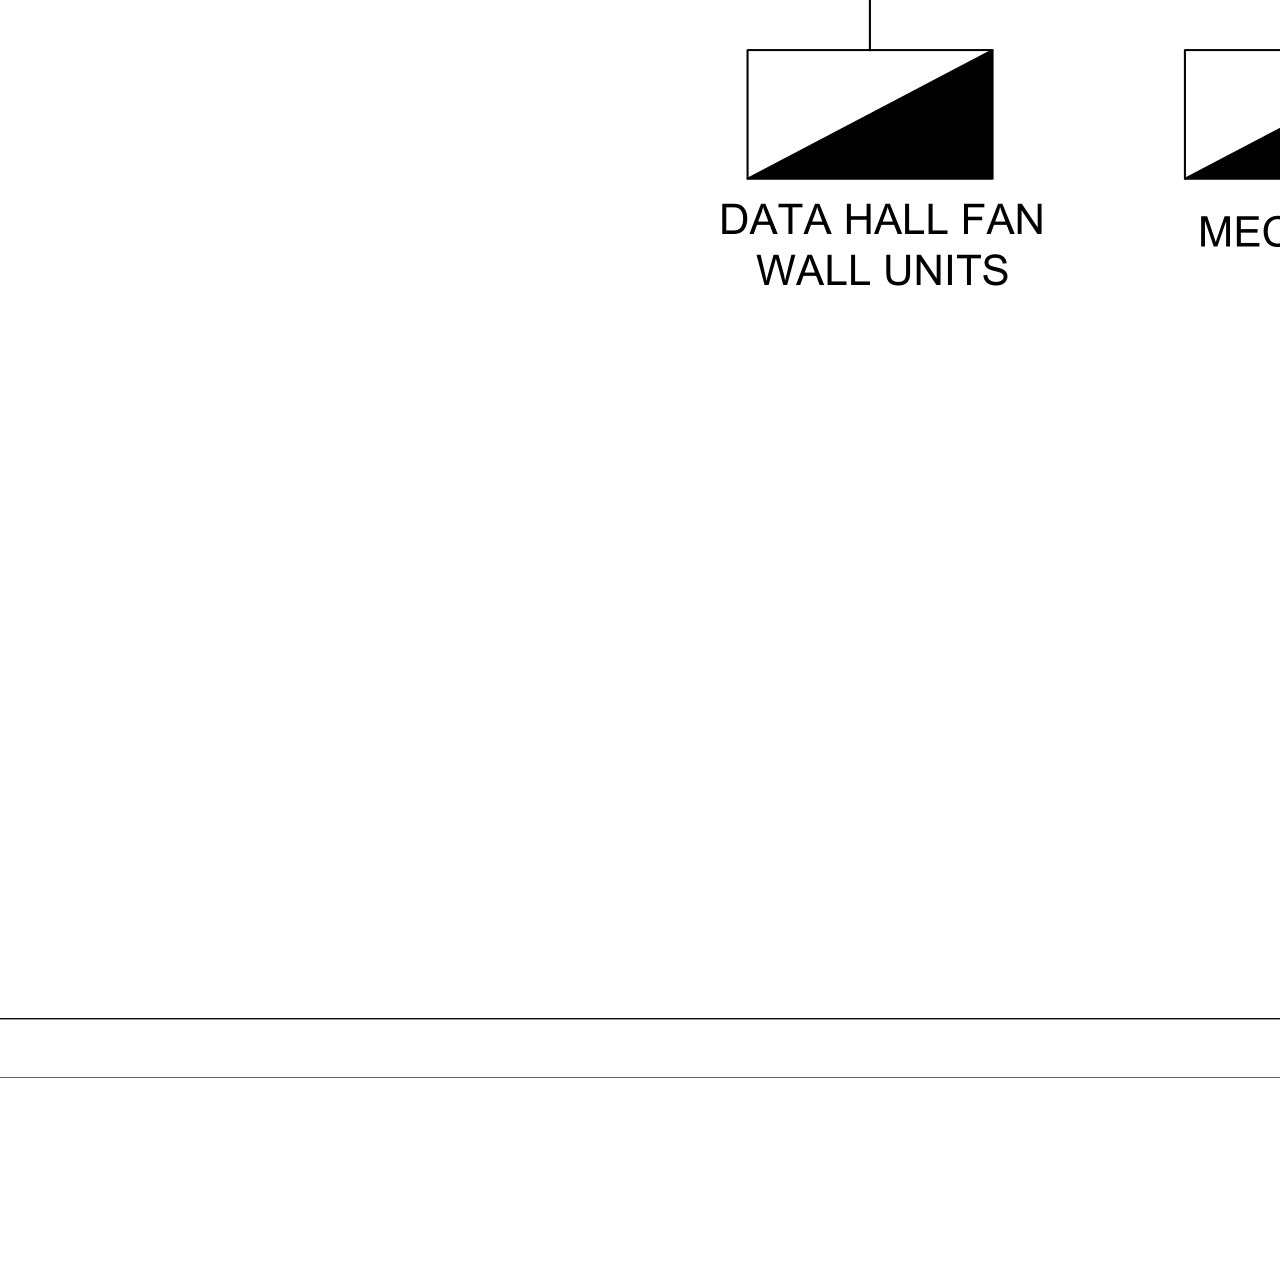Distribution Board: (722, 29, 1013, 195)
